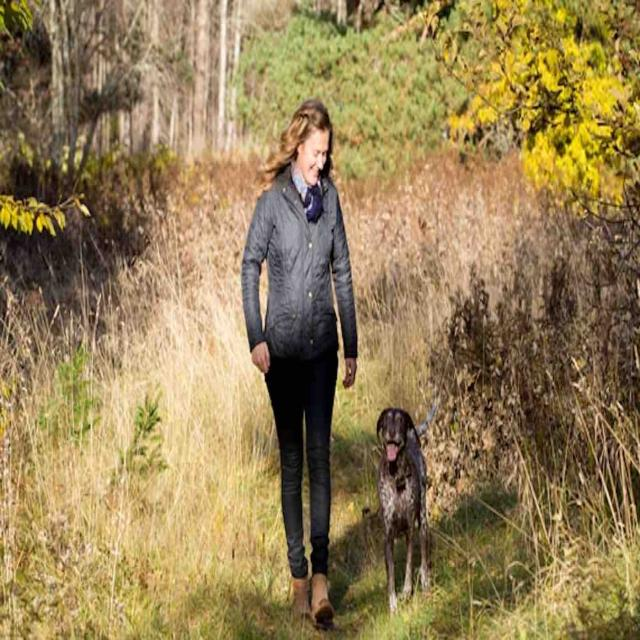stand: (256, 107, 362, 626)
